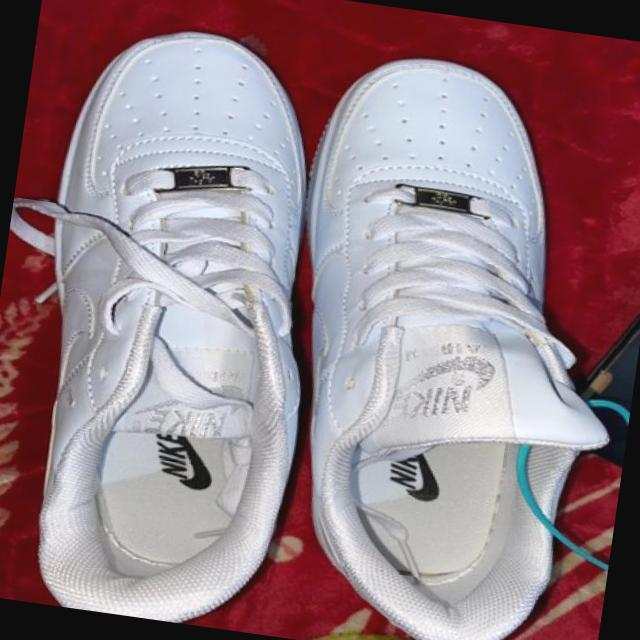nike_fake_airforce: (234, 38, 640, 640), (0, 1, 359, 637)
